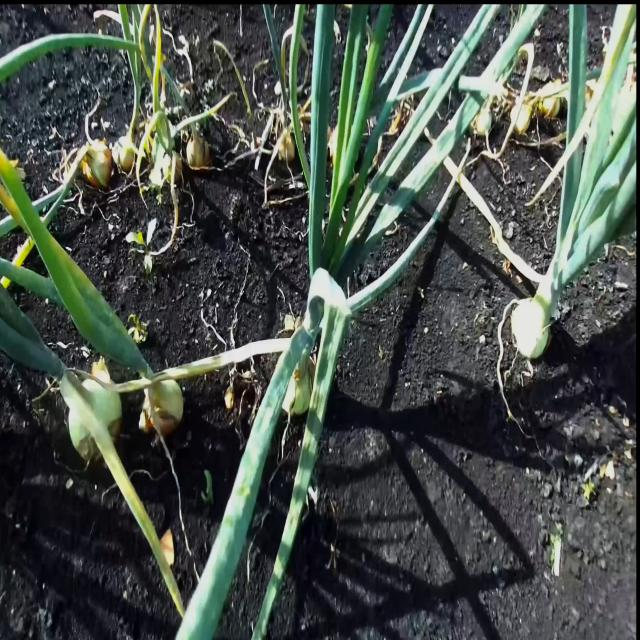onion: (62, 377, 121, 463), (512, 295, 550, 363), (142, 380, 182, 441), (84, 138, 109, 186), (186, 131, 212, 171), (510, 97, 530, 141), (540, 84, 563, 118), (114, 133, 135, 169), (476, 102, 496, 137), (278, 131, 296, 165)
